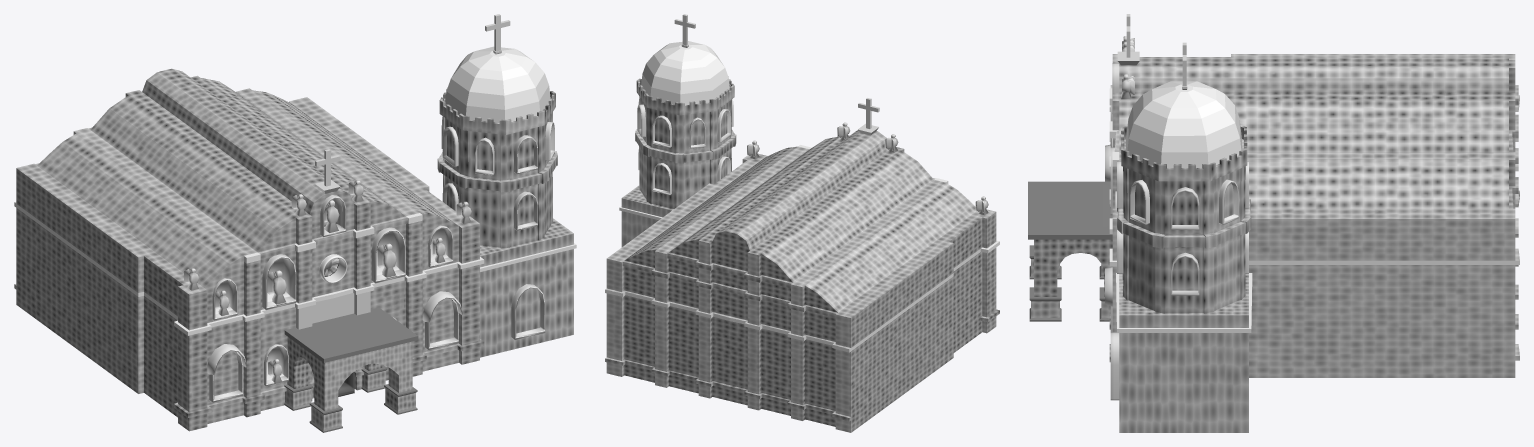
The model's file is san_bartolome_church.glb.
3 views of the same model, side by side, from view 1: azimuth 30°, elevation 25°; view 2: azimuth 150°, elevation 25°; view 3: azimuth 270°, elevation 25° (orthographic). The views are drawn at different scales.
Visible parts, largest first — view 1: Cube, Circle.010, Plane.015, Plane.005, Circle.023; view 2: Cube, Circle.010, Plane.015, Plane.005; view 3: Cube, Circle.010, Plane.005, Circle.023.
Part boxes in pixels (bbox=[...]): Cube: bbox=[14, 46, 576, 432]; Circle.010: bbox=[209, 117, 554, 402]; Plane.015: bbox=[184, 180, 471, 383]; Plane.005: bbox=[315, 14, 510, 193]; Circle.023: bbox=[207, 291, 462, 374]; Cube: bbox=[605, 41, 999, 432]; Circle.010: bbox=[637, 99, 733, 195]; Plane.015: bbox=[747, 122, 988, 215]; Plane.005: bbox=[674, 14, 879, 135]; Cube: bbox=[1028, 54, 1519, 432]; Circle.010: bbox=[1110, 63, 1248, 400]; Plane.005: bbox=[1117, 14, 1187, 89]; Circle.023: bbox=[1105, 145, 1112, 306].
Bounding box in the file's own units: 0.3649 × 0.2764 × 0.3408.
8 materials, 3 textured.
